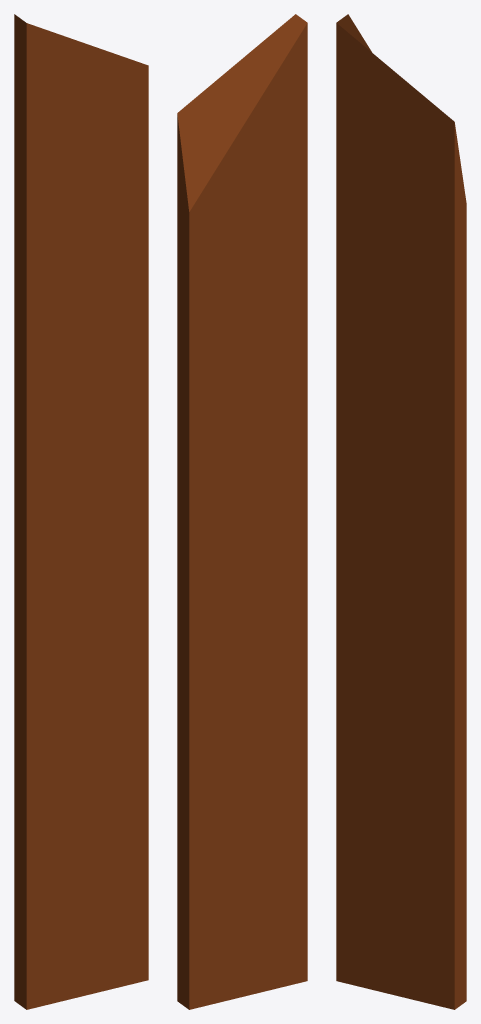
Rendered from wooden_wall_center_des3.FBX.
3 renders of one model, left to right at view 1: azimuth 30°, elevation 25°; view 2: azimuth 210°, elevation 25°; view 3: azimuth 330°, elevation 25°, orthographic. The views are drawn at different scales.
Visible parts, largest first — view 1: Quader026; view 2: Quader026; view 3: Quader026.
Boxes of the visible parts, x1=… form: Quader026: x1=14, y1=14, x2=148, y2=1009; Quader026: x1=177, y1=14, x2=307, y2=1009; Quader026: x1=336, y1=14, x2=466, y2=1009.
Bounding box in the file's own units: 0.000104 × 1.81e-05 × 0.000802.
